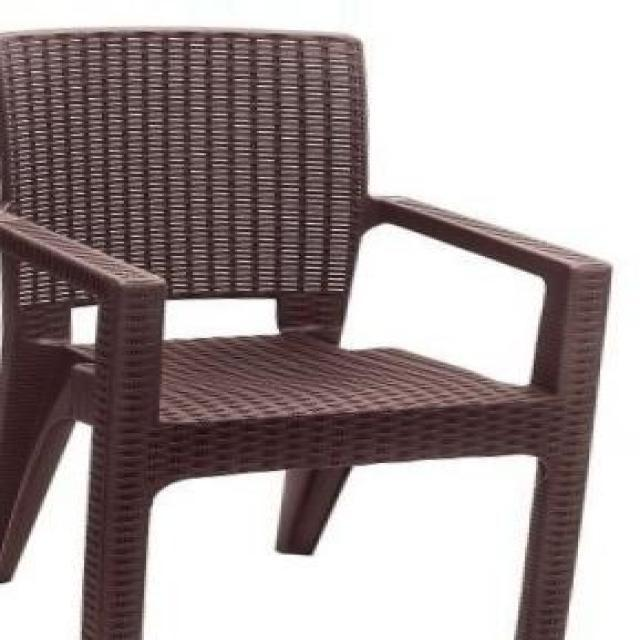chair: (2, 22, 616, 640)
